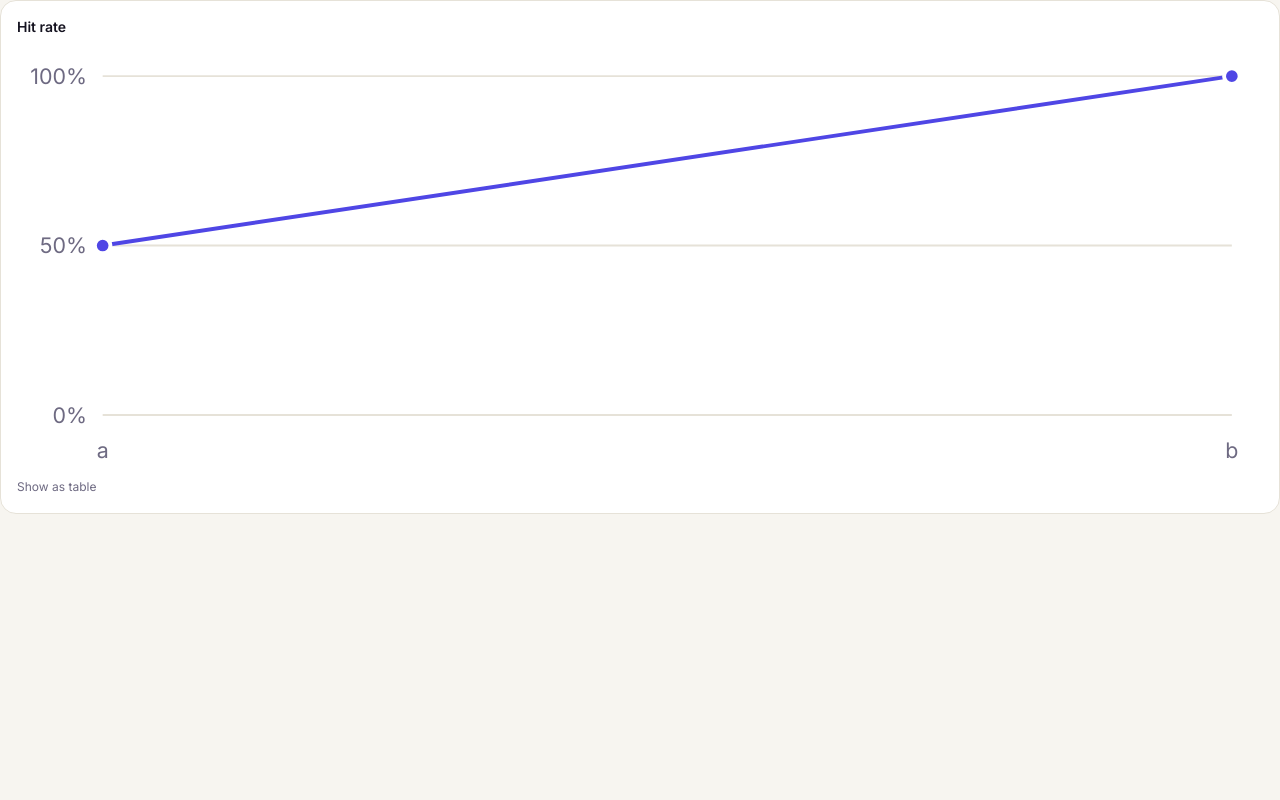
Test: charts and formatting › line chart offers a table view
Click the button "Show as table" at (57, 487), box [17,479,96,495]
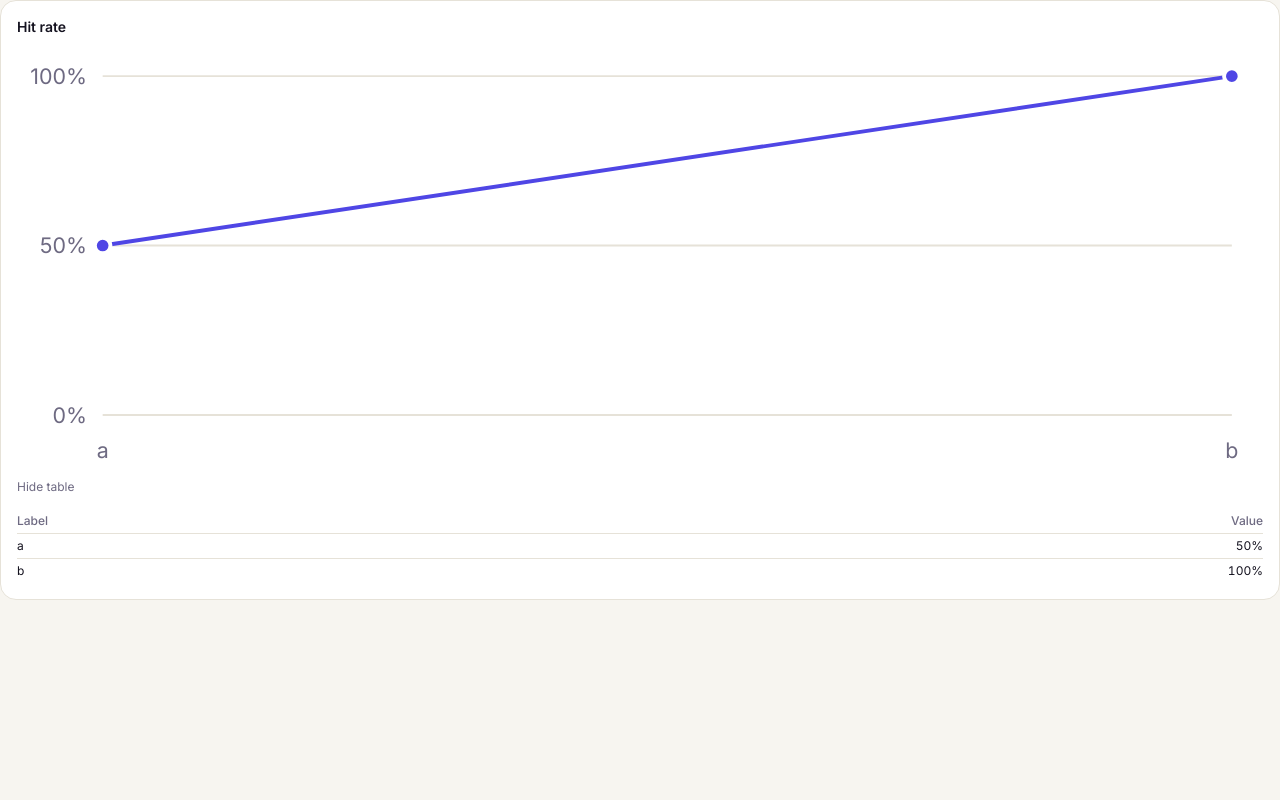
Check: the table shows "100%", box [1228,563,1263,578]
